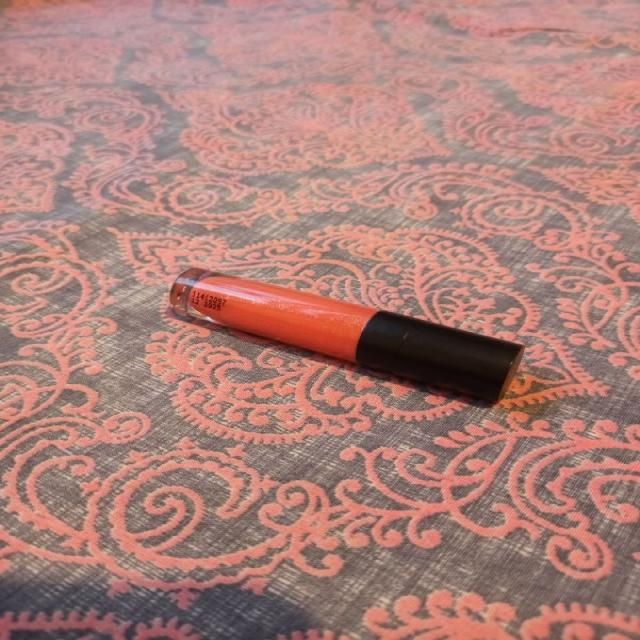lipstick: (167, 266, 525, 406)
